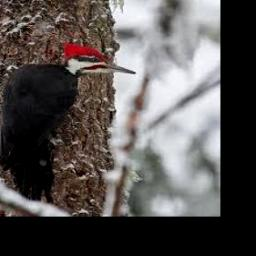Woodpecker: (4, 42, 136, 202)
